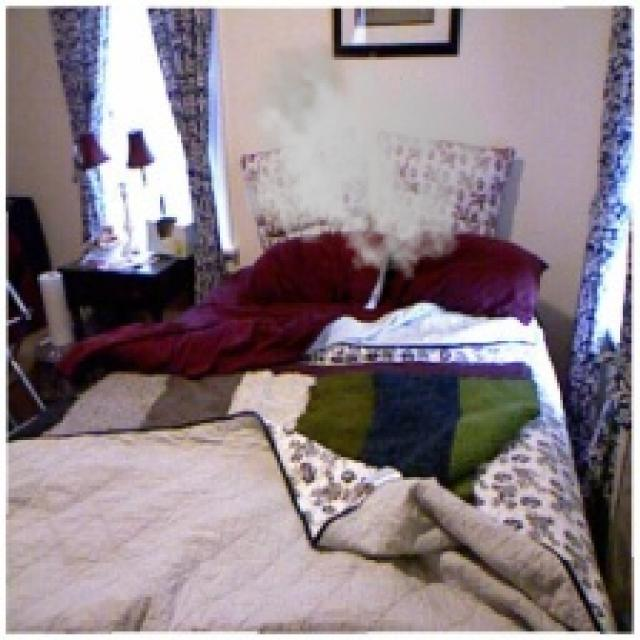smoke: (237, 34, 494, 280)
